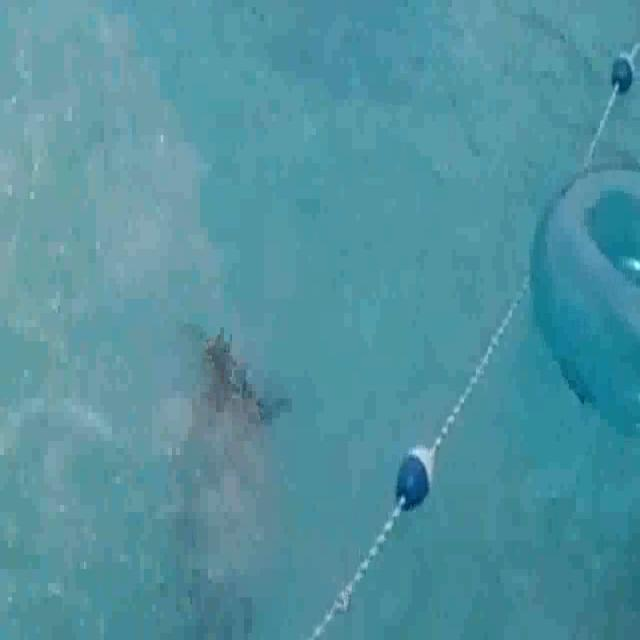drowning: (159, 278, 289, 601)
